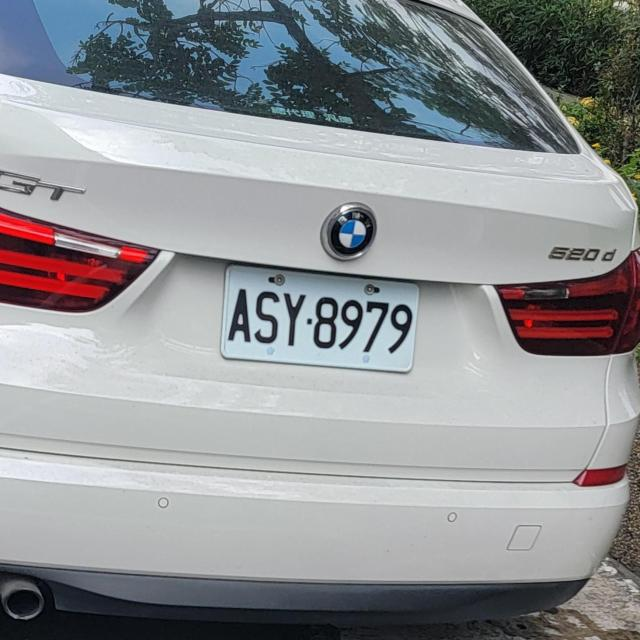W: (212, 255, 425, 382)
